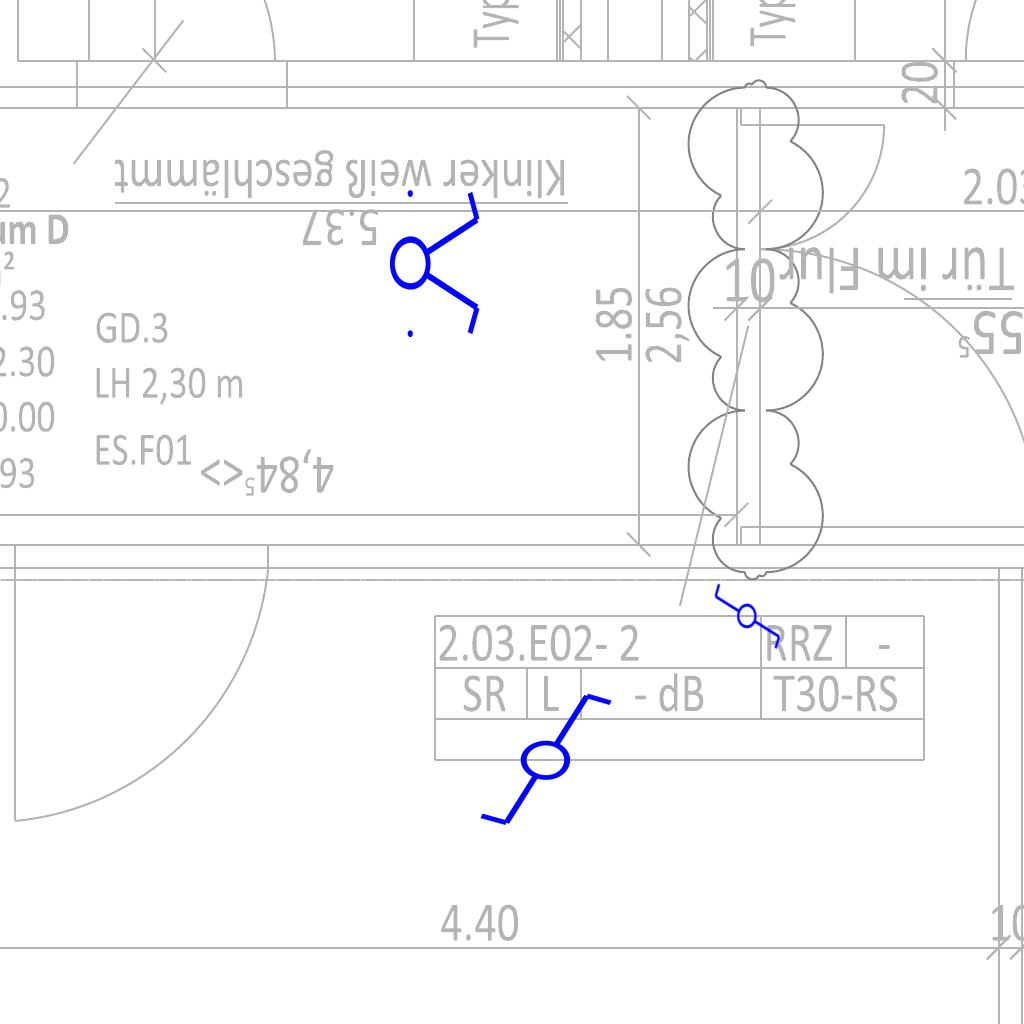Serienschalter: (388, 178, 484, 346)
Wechselschalter: (459, 686, 616, 830), (712, 573, 784, 651)
